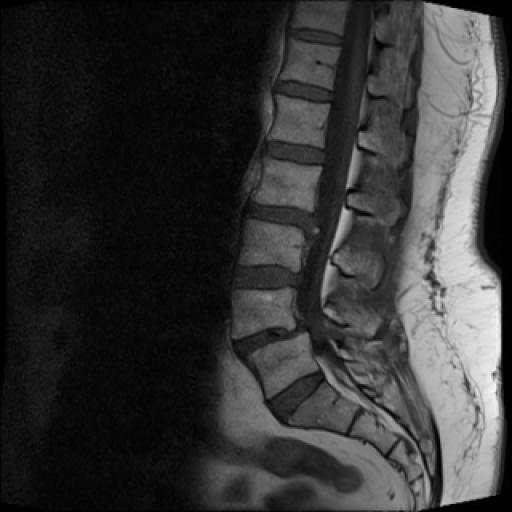L1: (268, 95, 330, 148)
L2: (253, 157, 321, 212)
L3: (239, 219, 303, 272)
L4: (231, 287, 296, 338)
L5: (247, 332, 319, 398)
S1: (288, 380, 359, 433)
